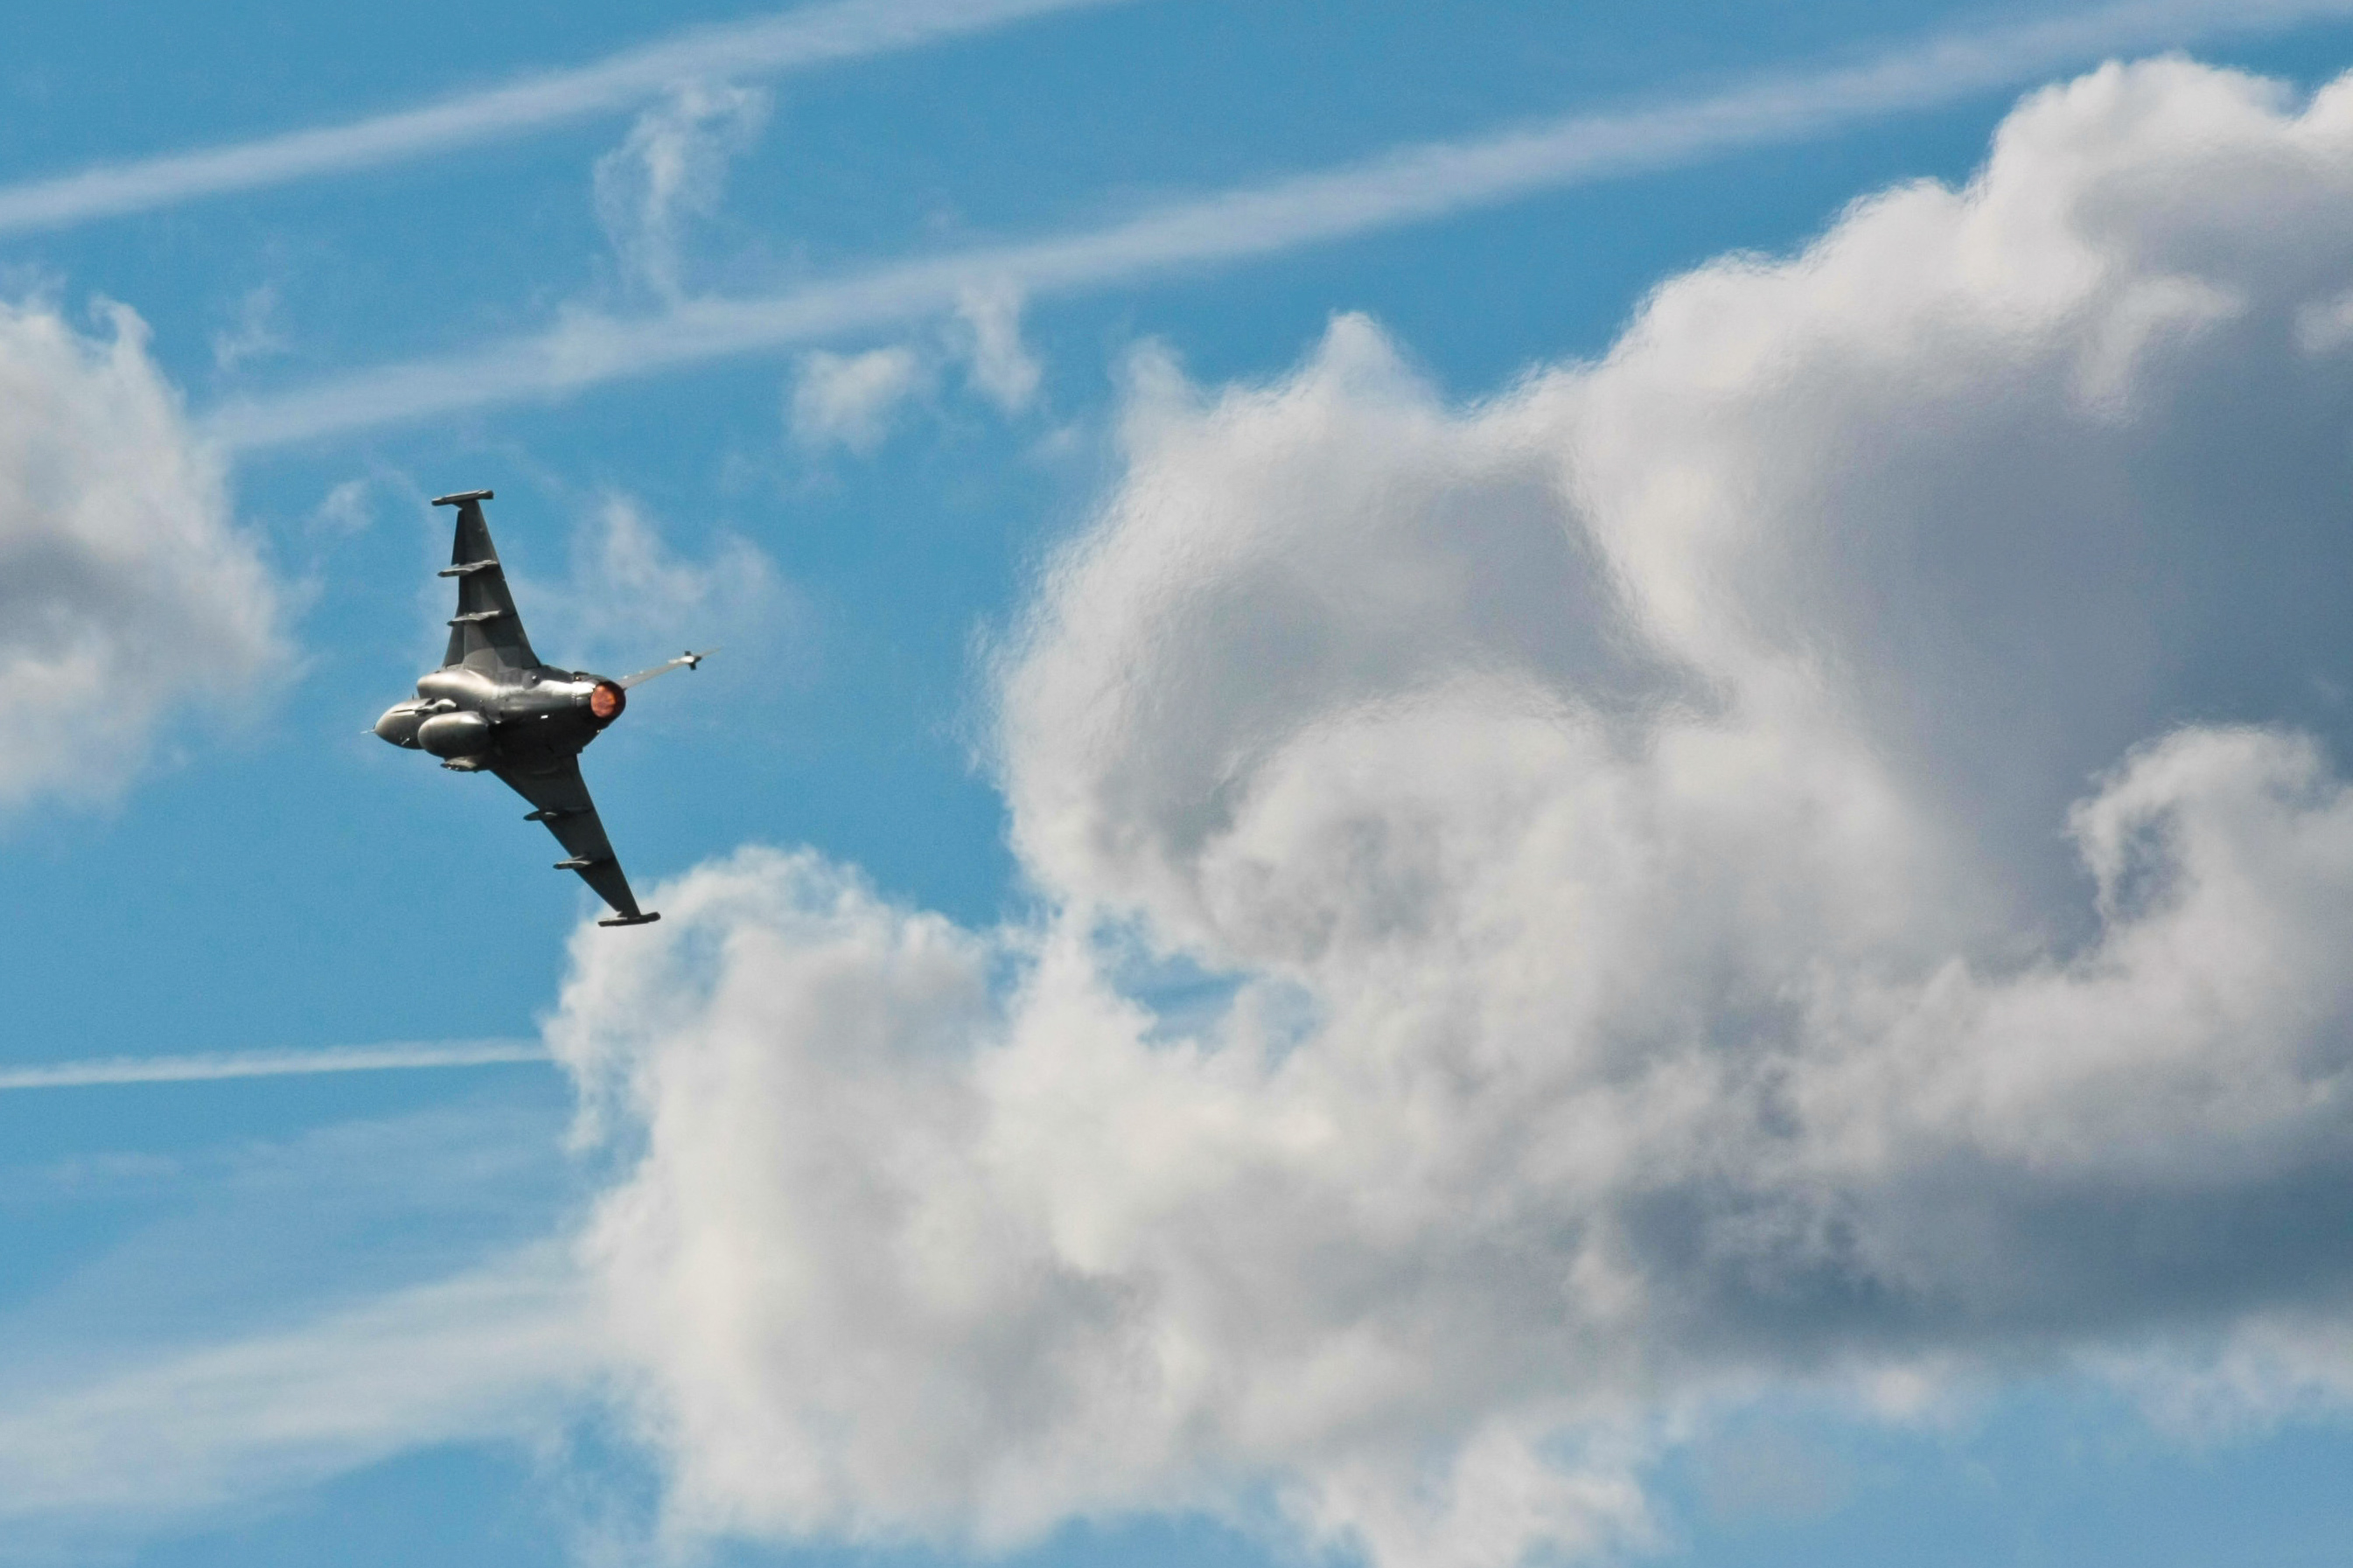JAS39: (359, 488, 724, 927)
